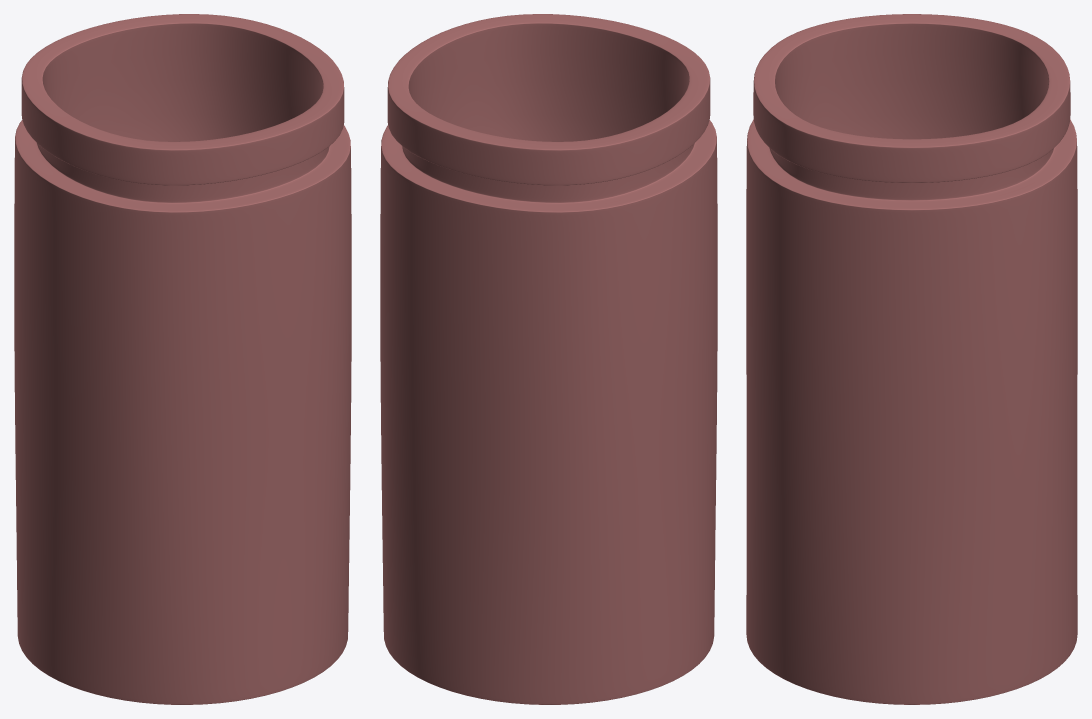
The model's file is jar_tall.fbx.
3 renders of one model, left to right at view 1: azimuth 30°, elevation 25°; view 2: azimuth 150°, elevation 25°; view 3: azimuth 270°, elevation 25°, orthographic.
Parts seen in each view (by area): view 1: jar_tall; view 2: jar_tall; view 3: jar_tall.
Part boxes in pixels (<box>): jar_tall: <box>14,14,351,704</box>; jar_tall: <box>380,14,717,704</box>; jar_tall: <box>746,14,1077,704</box>.
Size of the model in its own units: 39.63 by 73.17 by 39.63.
